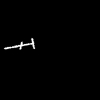double_crochet: (4, 39, 34, 48)
